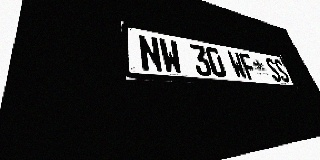0: (204, 46, 227, 78)
3: (189, 43, 213, 77)
F: (238, 52, 259, 80)
N: (137, 34, 164, 73)
S: (264, 57, 283, 82), (272, 59, 291, 83)
W: (158, 38, 184, 74), (226, 50, 248, 79)
